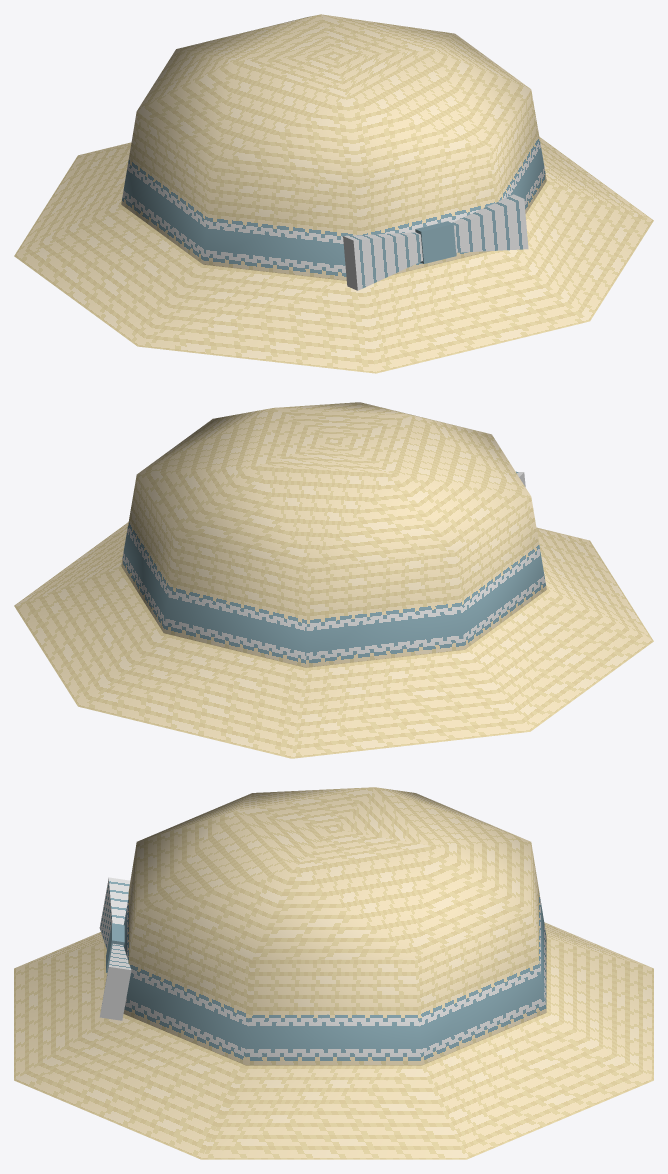
The model's file is 042d_Straw_Hat.glb.
The picture shows the model from 3 angles, top to bottom: view 1: azimuth 30°, elevation 25°; view 2: azimuth 150°, elevation 25°; view 3: azimuth 270°, elevation 25°; orthographic projection. The views are drawn at different scales.
Parts seen in each view (by area): view 1: part_0; view 2: part_0; view 3: part_0.
Boxes of the visible parts, left/top/right/bottom form: part_0: left=14, top=14, right=653, bottom=373; part_0: left=14, top=402, right=653, bottom=758; part_0: left=14, top=787, right=653, bottom=1159.
Bounding box in the file's own units: 0.2715 × 0.0916 × 0.2715.
1 material, 1 textured.
